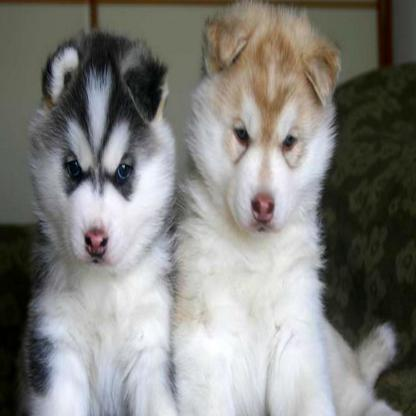dog: (176, 4, 397, 416), (21, 29, 180, 416)
